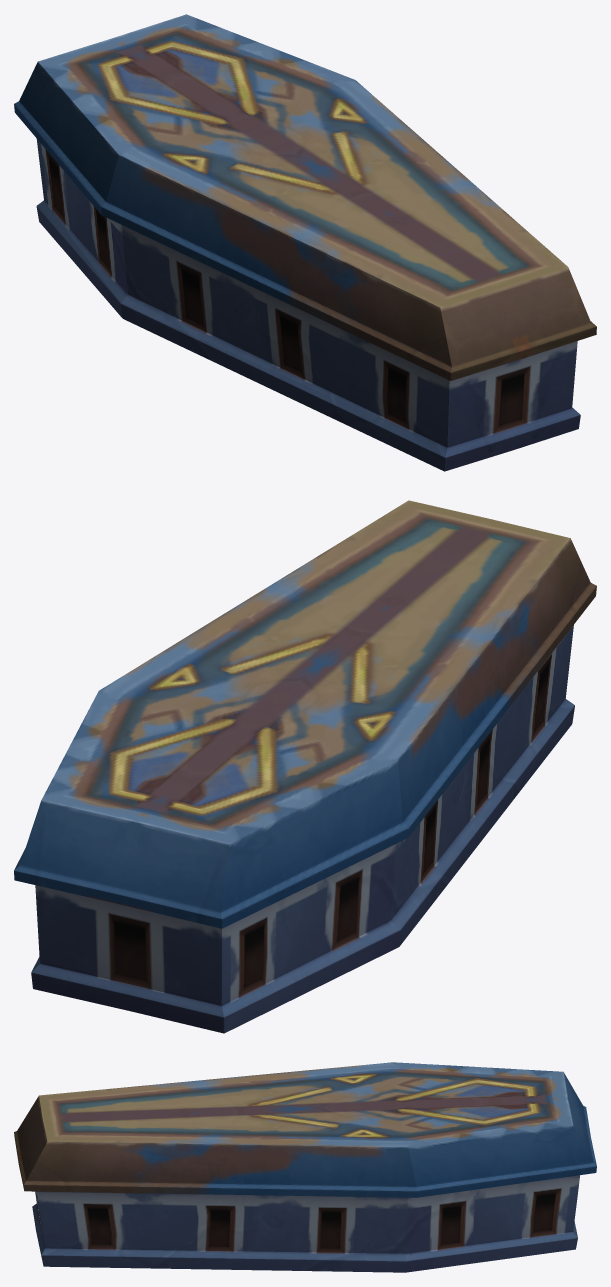
Rendered from Area_13_9.fbx.
3 views of the same model, one above another, from view 1: azimuth 30°, elevation 25°; view 2: azimuth 150°, elevation 25°; view 3: azimuth 270°, elevation 25° (orthographic). The views are drawn at different scales.
Parts seen in each view (by area): view 1: Area_13_9; view 2: Area_13_9; view 3: Area_13_9.
Part boxes in pixels (x1,y1,x2,y2): Area_13_9: (14,14,596,471); Area_13_9: (14,500,596,1033); Area_13_9: (14,1062,596,1272).
Size of the model in its own units: 157 by 93.56 by 382.
